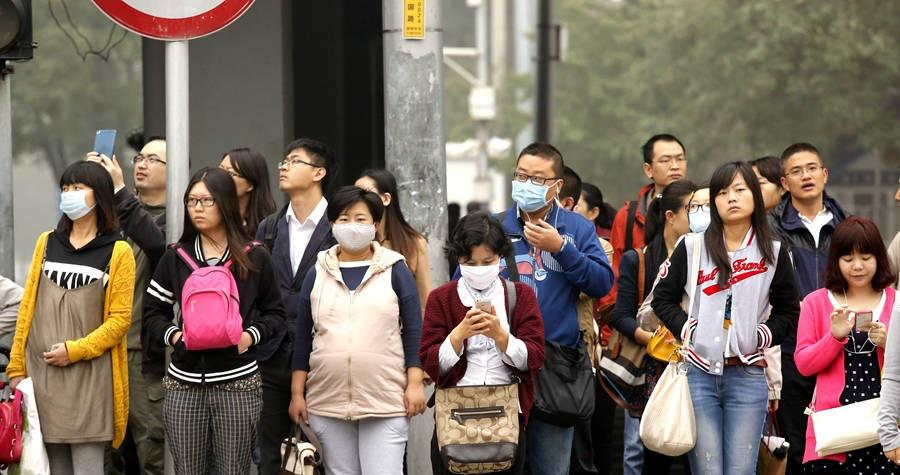NONE: (278, 155, 319, 192), (649, 150, 690, 186), (189, 191, 226, 229), (842, 246, 879, 284), (134, 147, 168, 186), (720, 182, 754, 221), (790, 160, 824, 197)
OK: (331, 206, 377, 252), (461, 248, 501, 288), (515, 168, 554, 207), (58, 182, 93, 220), (688, 194, 720, 234)
